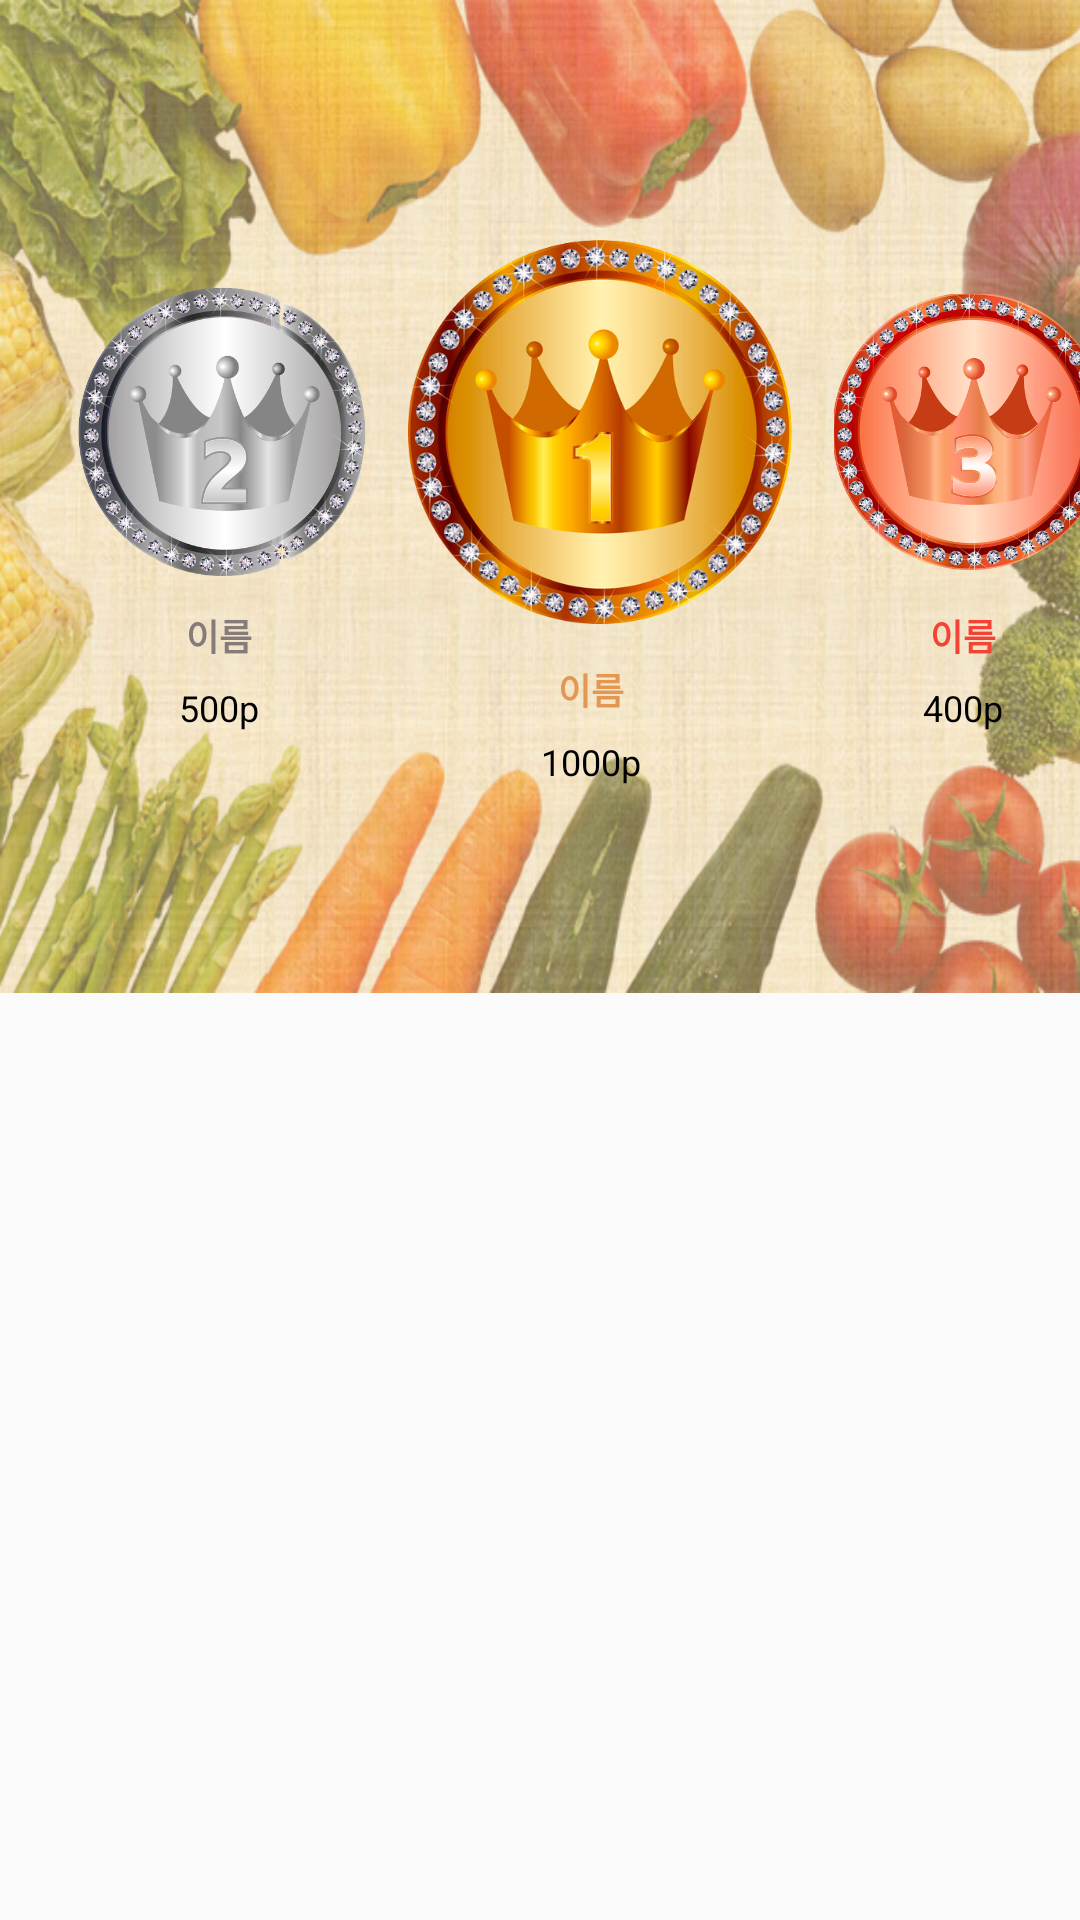

Where to tap for icons on this 1080 x 1920 app screen, as point (x, y):
silver: point (221, 432)
